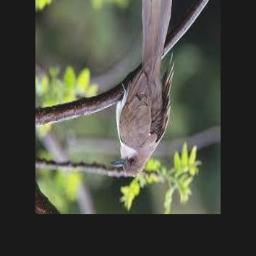Cuckoo: (111, 0, 175, 177)
